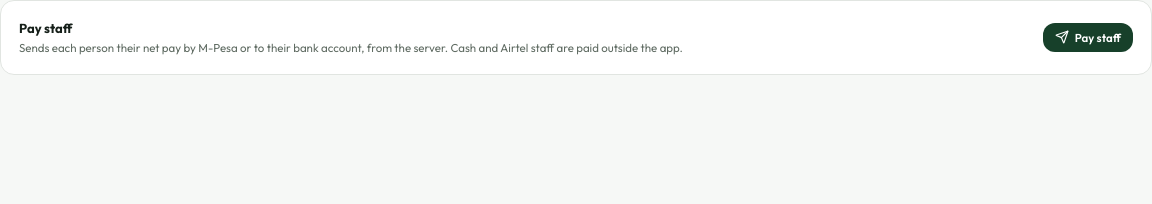
Test case: RunPaymentsPanel › offers to pay staff, queues them, and lists who is not paid from here
Click the button "Pay staff": x=1088, y=37 [1043,23,1133,52]
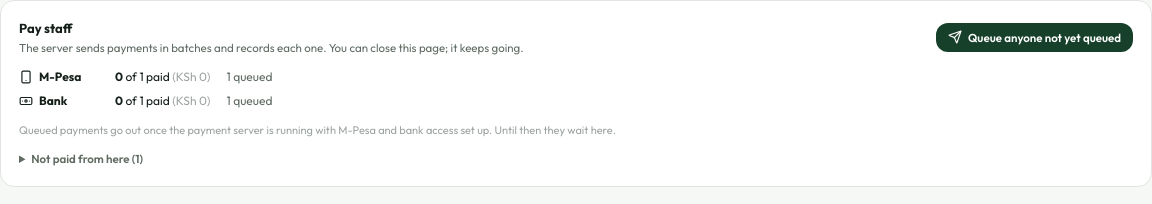
Result: the text "1 queued" is shown 2 times at [226,68,272,86]; [226,92,272,110]
Result: the heading "Not paid from here (1)" is shown at [31,151,143,166]
Result: the text "Queued payments go out once the payment server is running" is shown at [19,123,616,137]
